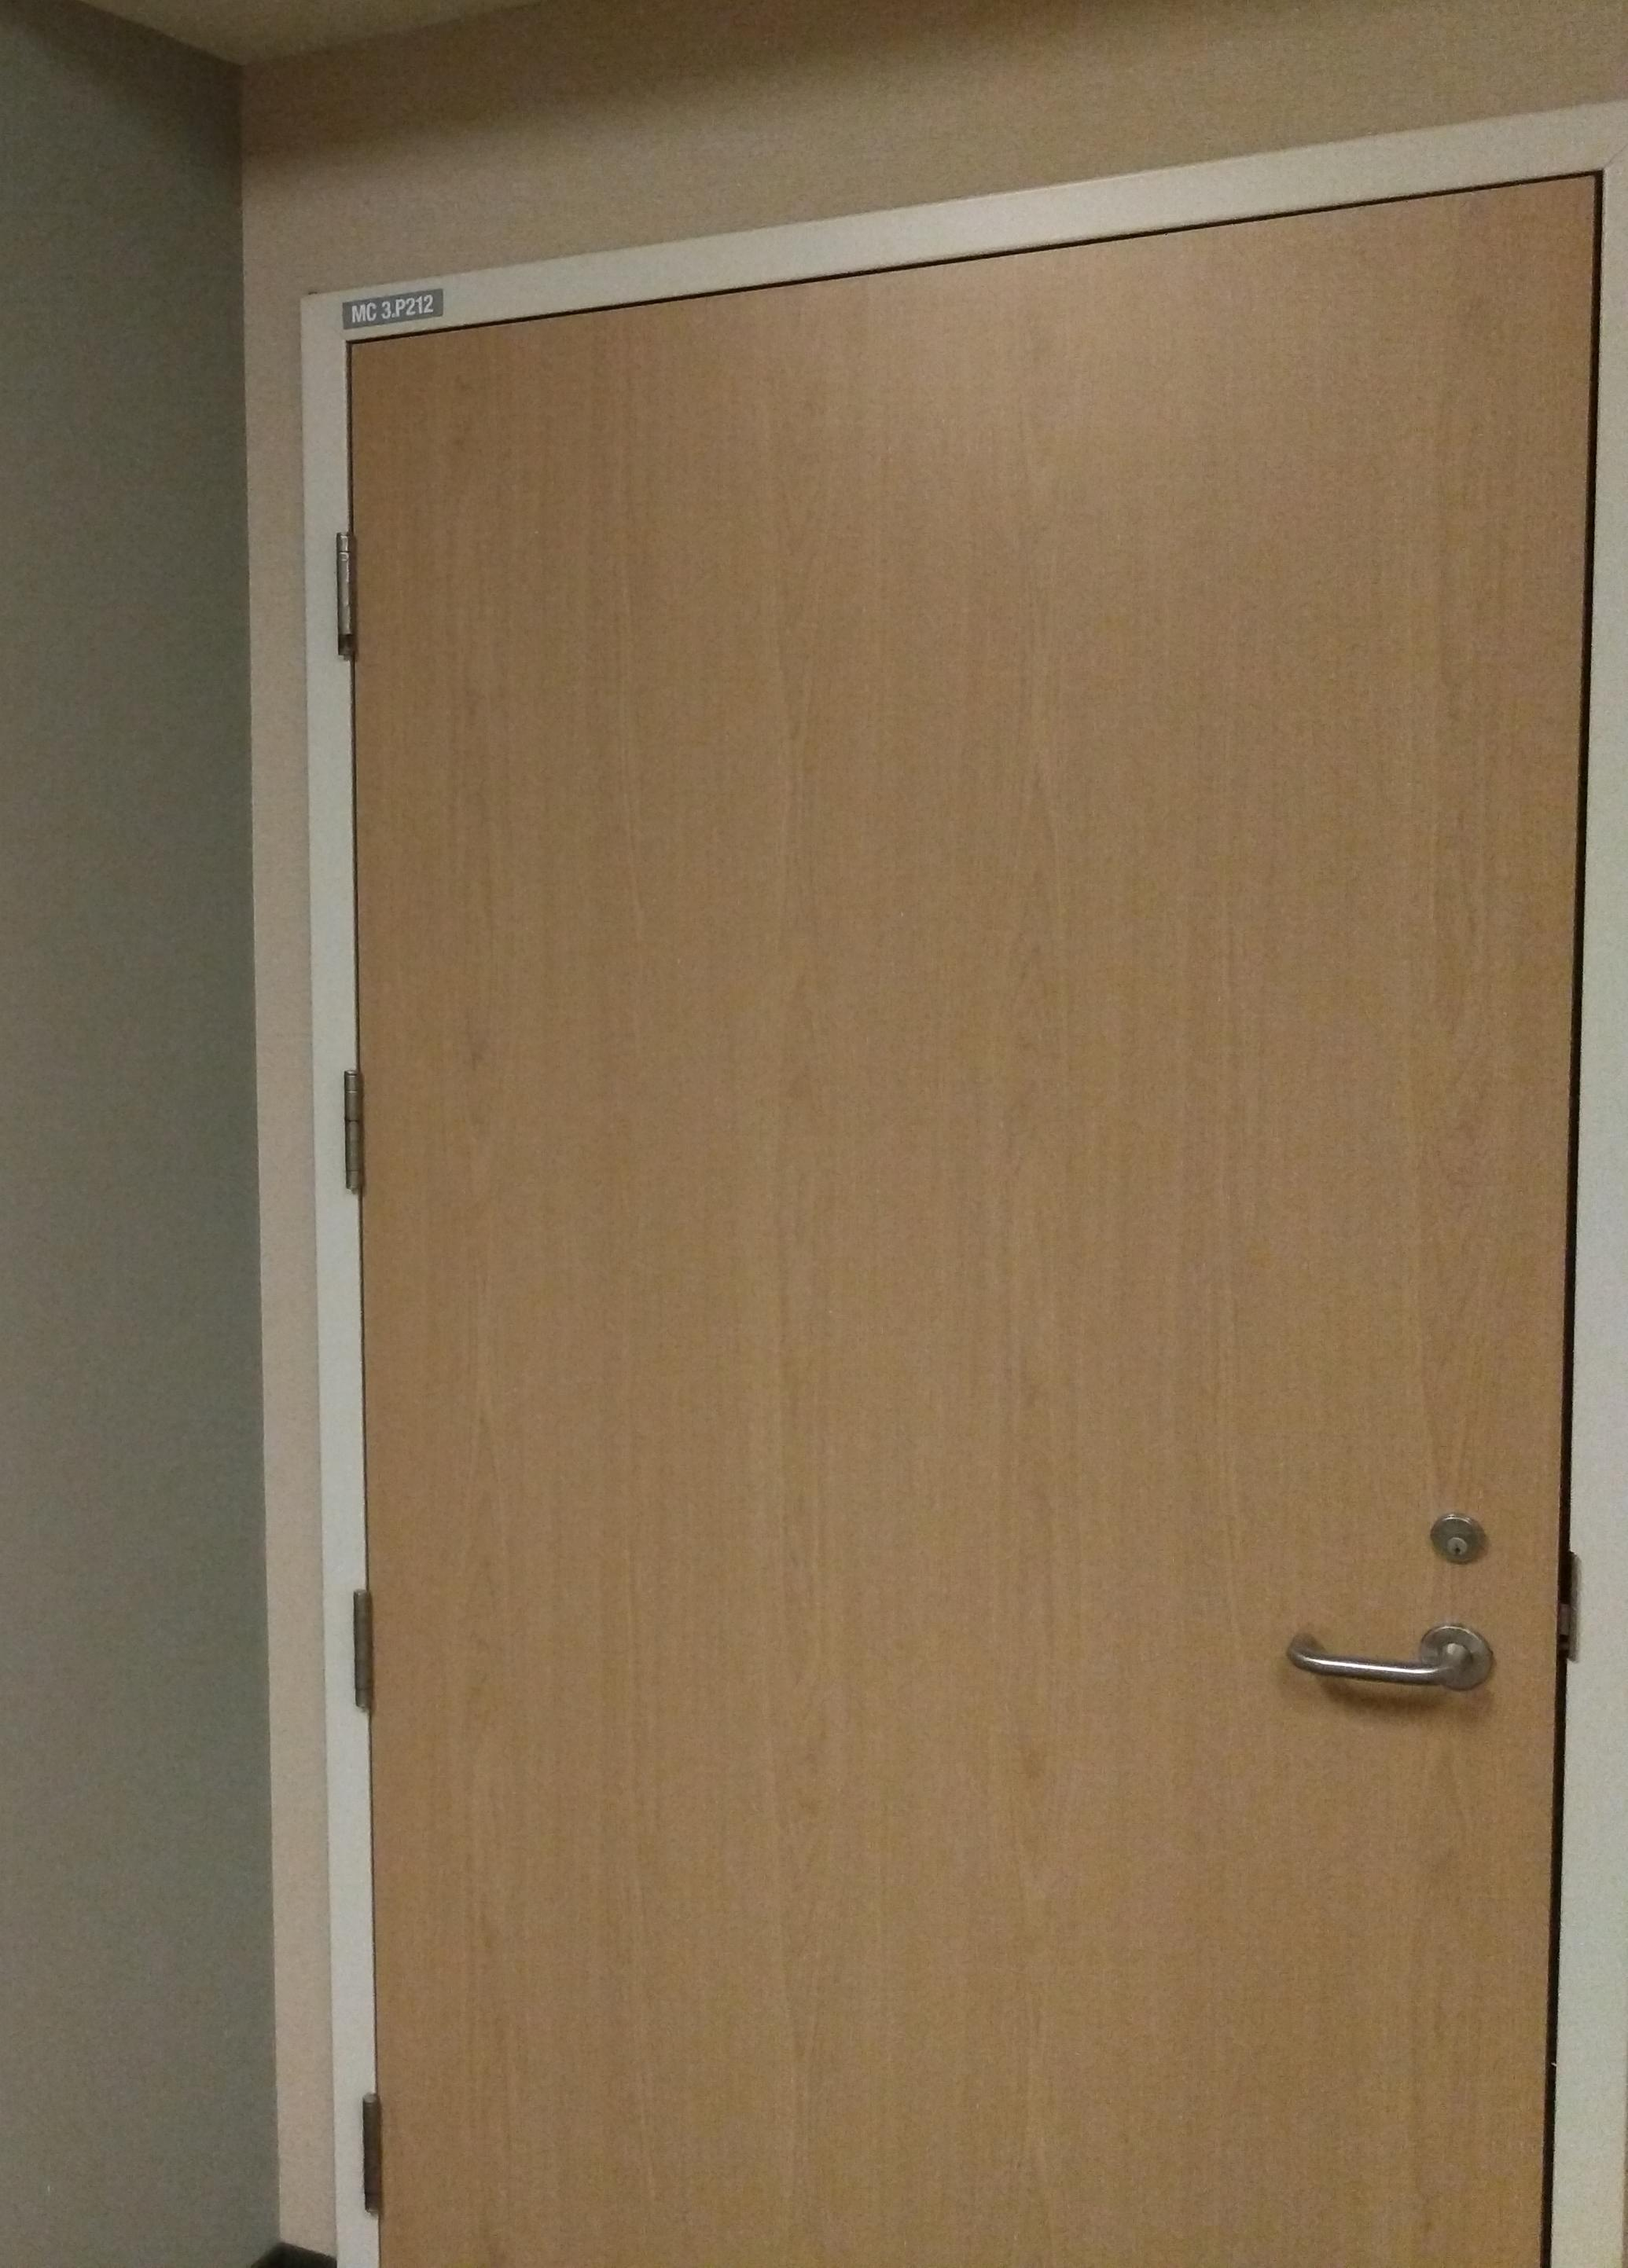door: (335, 157, 1614, 2268)
